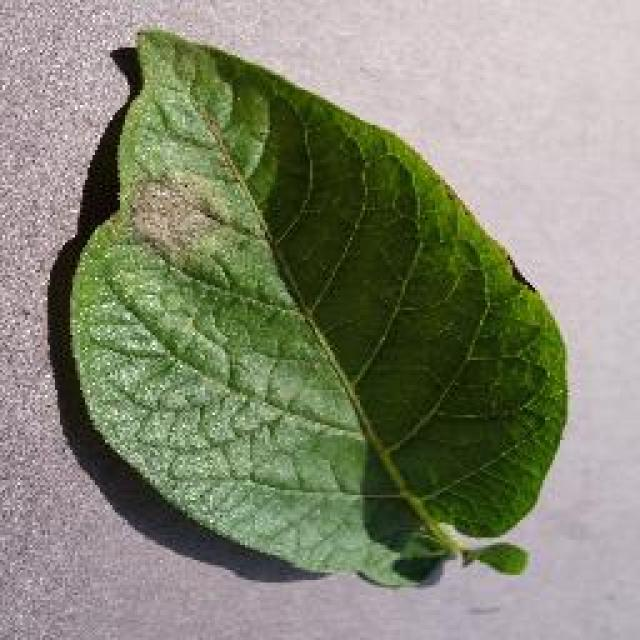Late_blight: (110, 155, 270, 284)
